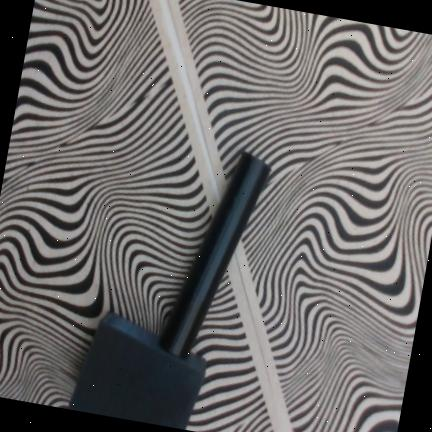Cilindro: (158, 150, 270, 360)
Paralelepipedo: (67, 312, 207, 429)
